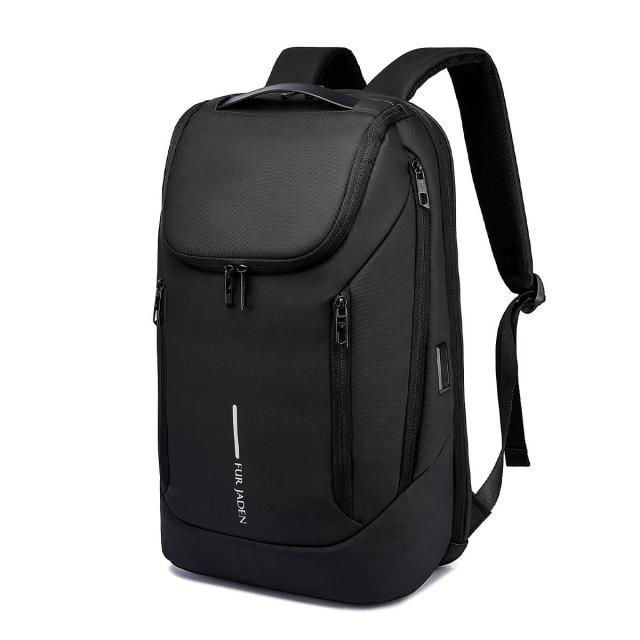backpack: (154, 46, 546, 608)
